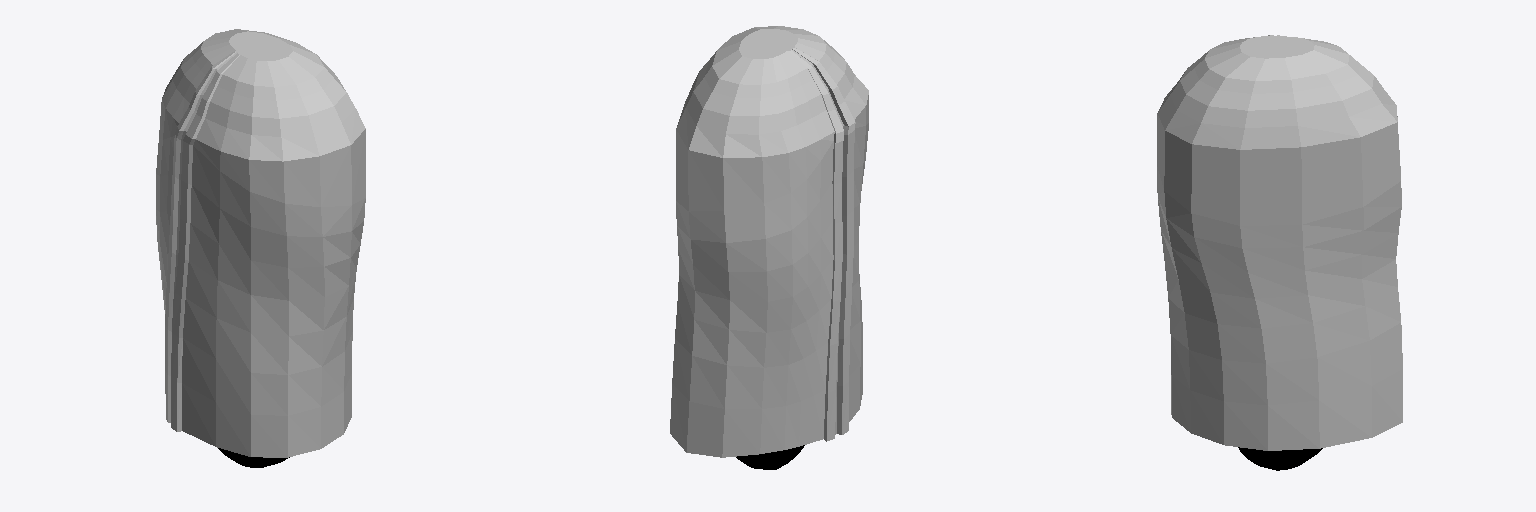
The model's file is 09_legUP_R.obj.
3 views of the same model, side by side, from view 1: azimuth 30°, elevation 25°; view 2: azimuth 150°, elevation 25°; view 3: azimuth 270°, elevation 25° (orthographic).
Visible parts, largest first — view 1: legUP_R; view 2: legUP_R; view 3: legUP_R.
Boxes of the visible parts, box(x1,y1,x2,y2) form: legUP_R: box(156, 29, 365, 467); legUP_R: box(670, 26, 868, 469); legUP_R: box(1157, 35, 1402, 470).
Size of the model in its own units: 1.29 by 3.23 by 1.72.